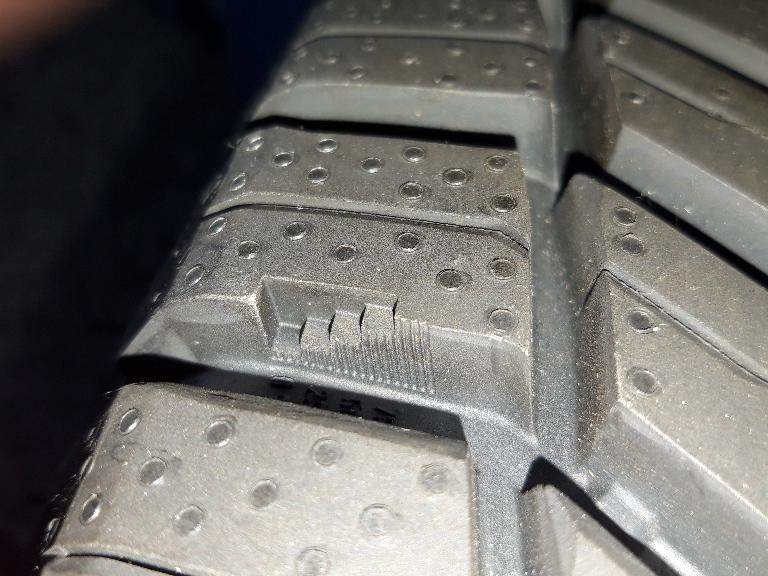temoin:100: (240, 269, 445, 404)
